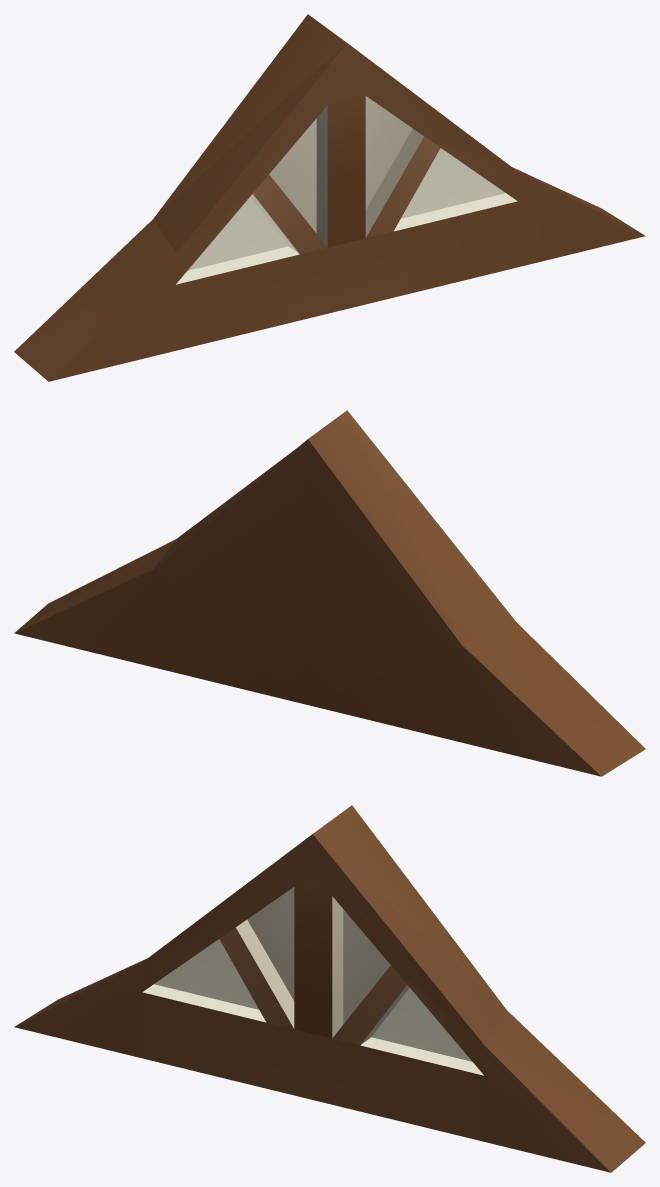
Rendered from House_4x3_Gable.gltf.
The picture shows the model from 3 angles, top to bottom: view 1: azimuth 30°, elevation 25°; view 2: azimuth 150°, elevation 25°; view 3: azimuth 330°, elevation 25°; orthographic projection.
Parts seen in each view (by area): view 1: House_4x3_Gable; view 2: House_4x3_Gable; view 3: House_4x3_Gable.
Part boxes in pixels (x1,y1,x2,y2): House_4x3_Gable: [14, 14, 645, 381]; House_4x3_Gable: [14, 410, 645, 776]; House_4x3_Gable: [14, 805, 645, 1172].
Bounding box in the file's own units: 3.28 × 1.4 × 0.3798.
Materials: 1 (1 with a texture image).
